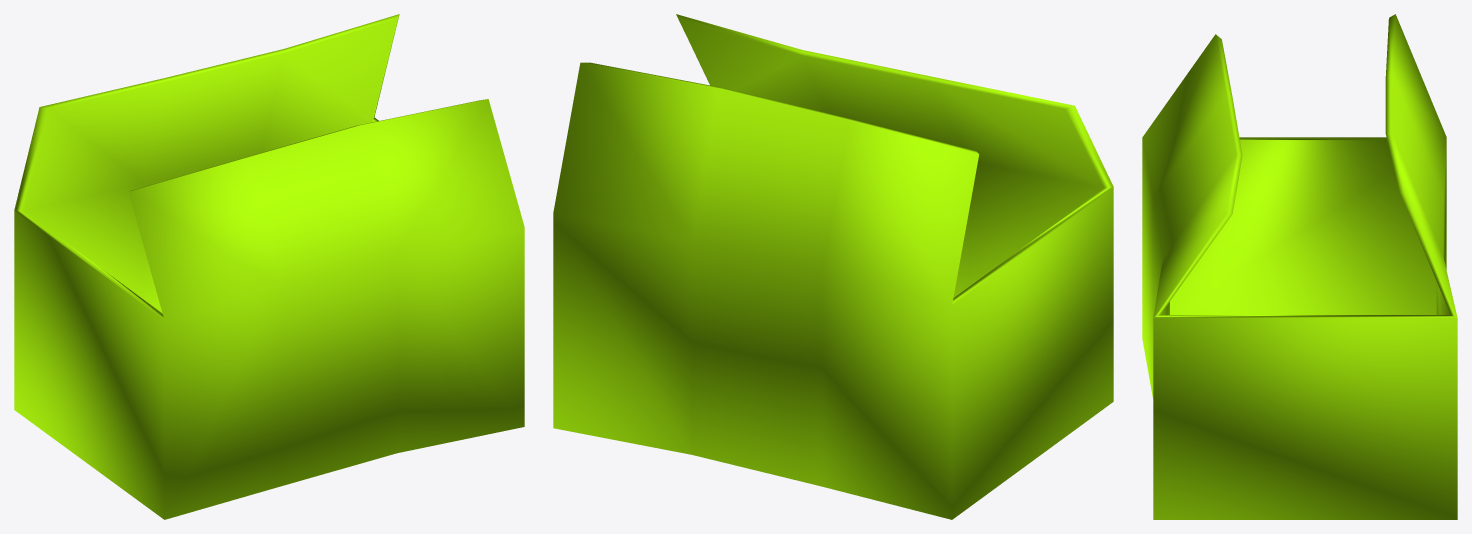
File: Cardboard_Box_B_COL.FBX
3 views of the same model, side by side, from view 1: azimuth 30°, elevation 25°; view 2: azimuth 150°, elevation 25°; view 3: azimuth 270°, elevation 25° (orthographic). The views are drawn at different scales.
Visible parts, largest first — view 1: Cardboard_Box_B_COL; view 2: Cardboard_Box_B_COL; view 3: Cardboard_Box_B_COL.
Boxes of the visible parts, x1,y1,x2,y2 form: Cardboard_Box_B_COL: [14, 14, 524, 519]; Cardboard_Box_B_COL: [553, 14, 1113, 519]; Cardboard_Box_B_COL: [1142, 14, 1457, 519].
Size of the model in its own units: 62.71 by 52.69 by 46.24.
